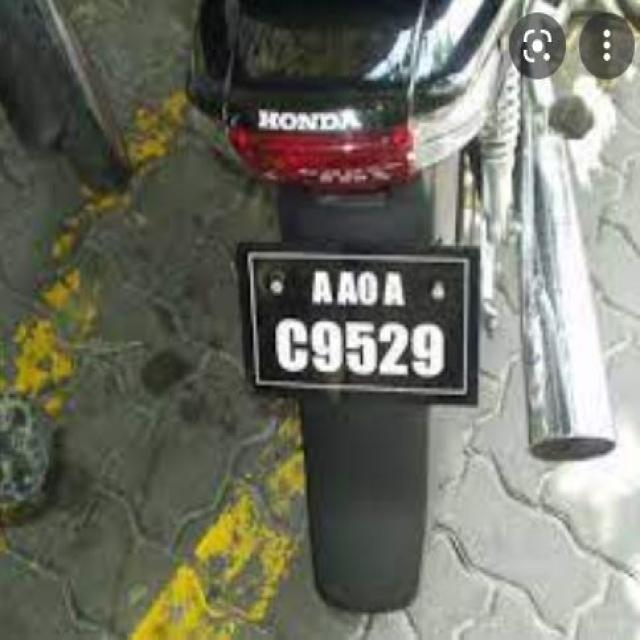number plate: (236, 238, 478, 402)
